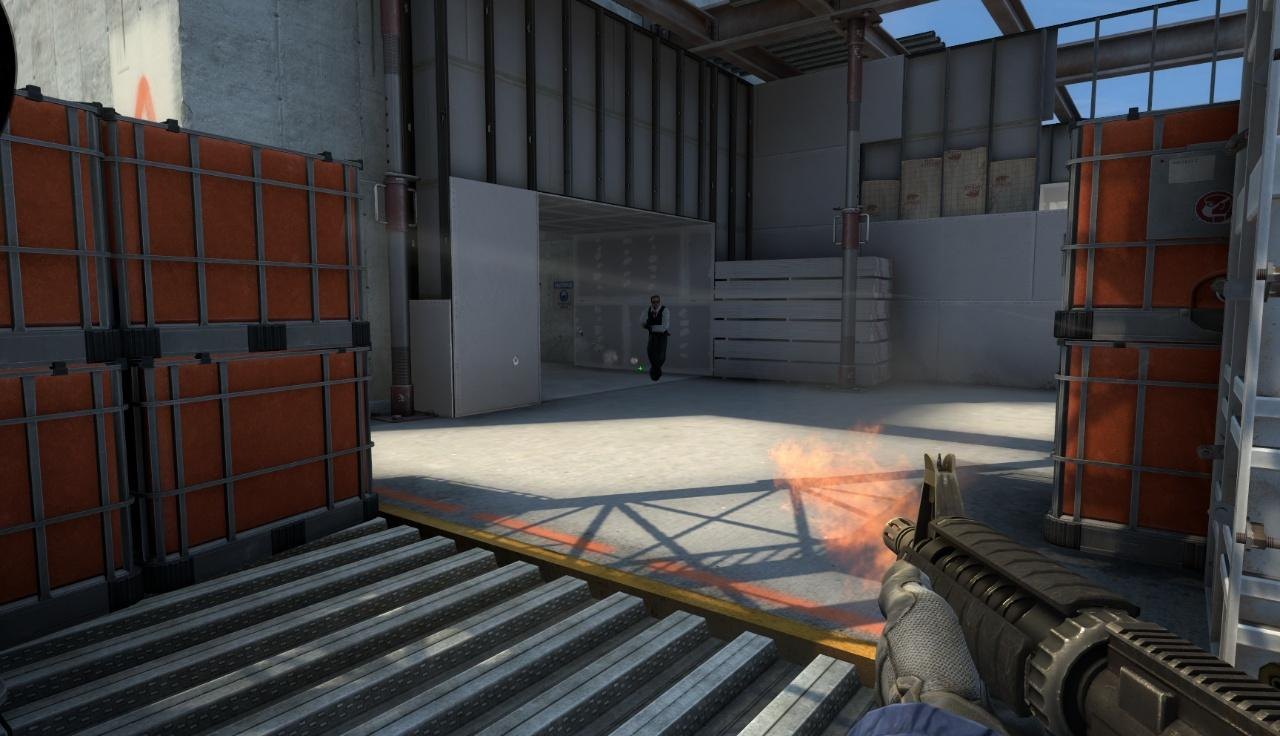rifle: (867, 459, 1280, 735)
tt: (642, 293, 670, 381)
tthead: (650, 296, 661, 309)
